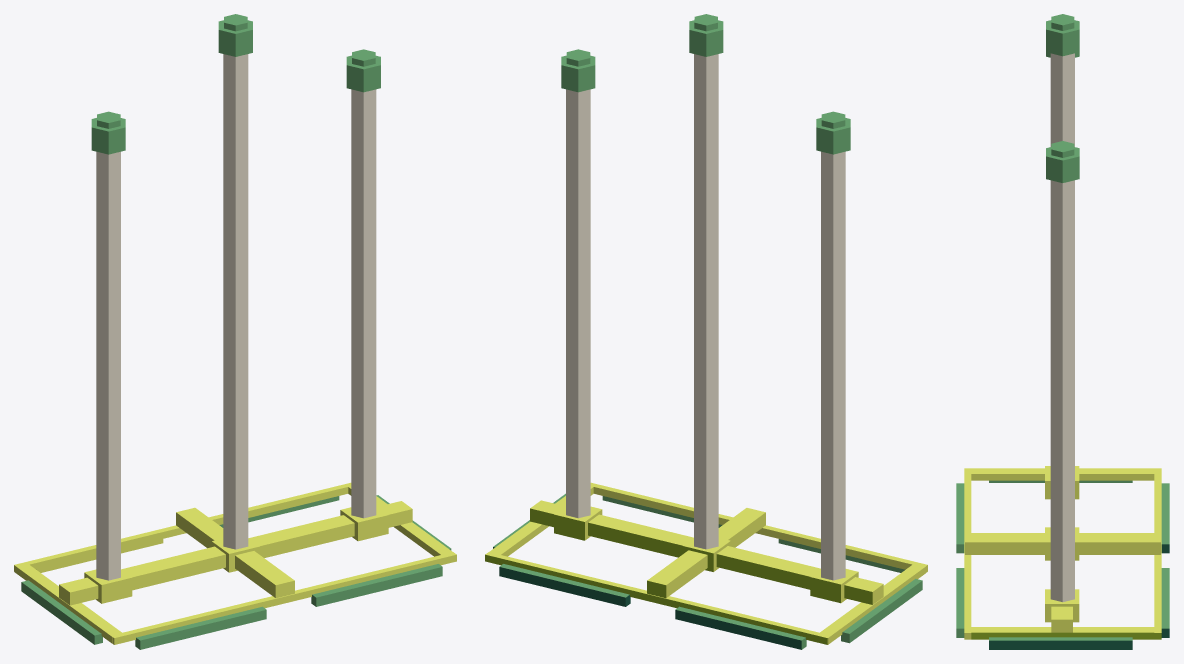
File: CrainSmallPart1.fbx
The picture shows the model from 3 angles, left to right: view 1: azimuth 30°, elevation 25°; view 2: azimuth 150°, elevation 25°; view 3: azimuth 270°, elevation 25°; orthographic projection.
Parts seen in each view (by area): view 1: CrainSmallPart1; view 2: CrainSmallPart1; view 3: CrainSmallPart1.
Boxes of the visible parts, x1,y1,x2,y2 form: CrainSmallPart1: (14, 14, 456, 649); CrainSmallPart1: (485, 14, 927, 649); CrainSmallPart1: (956, 14, 1169, 649).
Bounding box in the file's own units: 52.18 × 77.44 × 27.49.
